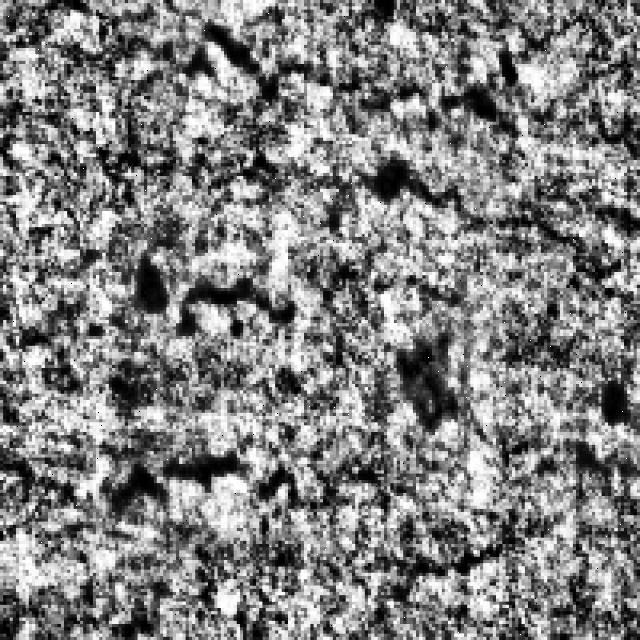Pitted_Surface: (10, 425, 640, 617), (99, 240, 451, 515), (135, 160, 640, 342), (118, 7, 640, 138)
